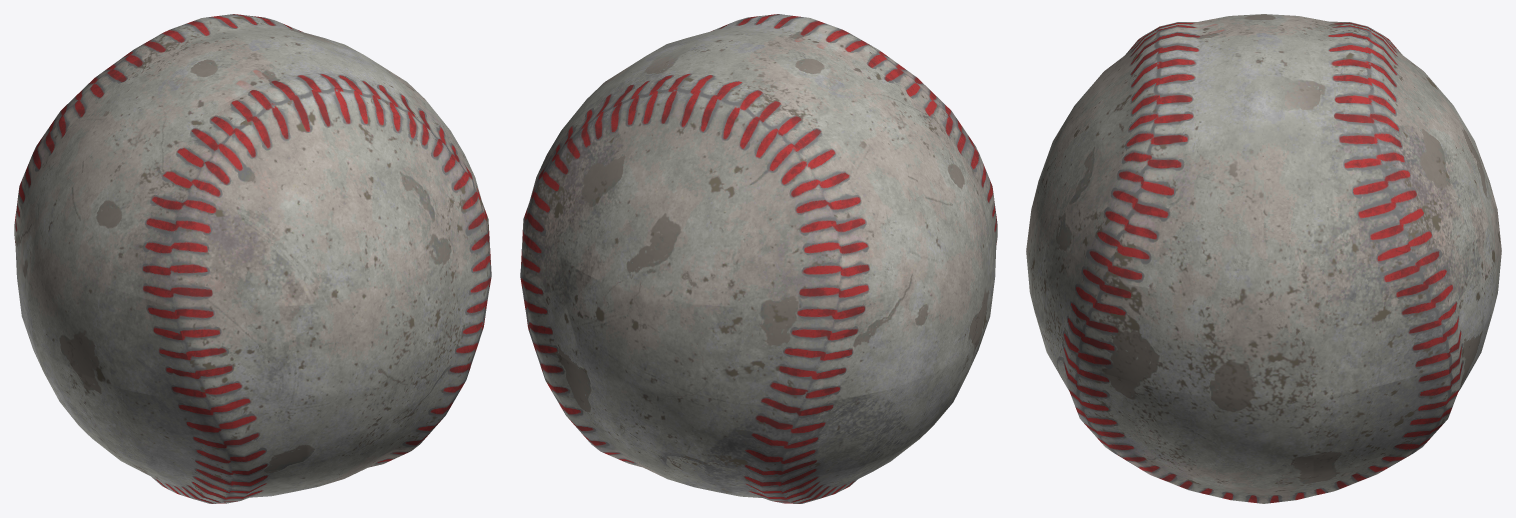
File: old tennis ball break.fbx
3 renders of one model, left to right at view 1: azimuth 30°, elevation 25°; view 2: azimuth 150°, elevation 25°; view 3: azimuth 270°, elevation 25°, orthographic.
Parts seen in each view (by area): view 1: old tennis ball.002, old tennis ball.012, old tennis ball.006, old tennis ball.011, old tennis ball.021, old tennis ball.001, old tennis ball.003, old tennis ball.020, old tennis ball.013, old tennis ball.005, old tennis ball.010, old tennis ball.019 (+8 smaller); view 2: old tennis ball.005, old tennis ball.014, old tennis ball.015, old tennis ball.006, old tennis ball.023, old tennis ball.004, old tennis ball.003, old tennis ball.024, old tennis ball.013, old tennis ball.016, old tennis ball.002, old tennis ball.025 (+7 smaller); view 3: old tennis ball.005, old tennis ball.002, old tennis ball.006, old tennis ball.016, old tennis ball.007, old tennis ball.010, old tennis ball.008, old tennis ball.017, old tennis ball.009, old tennis ball.025, old tennis ball.018, old tennis ball.019 (+5 smaller).
Boxes of the visible parts, left/top/right/bottom form: old tennis ball.002: left=147, top=73, right=452, bottom=307; old tennis ball.012: left=91, top=282, right=294, bottom=408; old tennis ball.006: left=88, top=29, right=422, bottom=173; old tennis ball.011: left=247, top=258, right=450, bottom=402; old tennis ball.021: left=97, top=379, right=310, bottom=483; old tennis ball.001: left=96, top=175, right=246, bottom=308; old tennis ball.003: left=34, top=129, right=146, bottom=281; old tennis ball.020: left=295, top=371, right=424, bottom=473; old tennis ball.013: left=27, top=241, right=97, bottom=378; old tennis ball.005: left=54, top=14, right=332, bottom=128; old tennis ball.010: left=425, top=225, right=491, bottom=370; old tennis ball.019: left=366, top=342, right=478, bottom=460; old tennis ball.005: left=559, top=66, right=873, bottom=307; old tennis ball.014: left=717, top=277, right=934, bottom=408; old tennis ball.015: left=560, top=259, right=763, bottom=402; old tennis ball.006: left=595, top=26, right=929, bottom=165; old tennis ball.023: left=701, top=374, right=929, bottom=483; old tennis ball.004: left=764, top=166, right=927, bottom=308; old tennis ball.003: left=873, top=127, right=982, bottom=277; old tennis ball.024: left=587, top=371, right=716, bottom=473; old tennis ball.013: left=928, top=234, right=987, bottom=373; old tennis ball.016: left=520, top=223, right=586, bottom=370; old tennis ball.002: left=692, top=14, right=958, bottom=126; old tennis ball.025: left=532, top=342, right=645, bottom=460; old tennis ball.005: left=1315, top=19, right=1494, bottom=251; old tennis ball.002: left=1034, top=22, right=1198, bottom=251; old tennis ball.006: left=1197, top=14, right=1315, bottom=171; old tennis ball.016: left=1314, top=252, right=1484, bottom=396; old tennis ball.007: left=1196, top=165, right=1315, bottom=300; old tennis ball.010: left=1043, top=252, right=1196, bottom=393; old tennis ball.008: left=1315, top=169, right=1461, bottom=297; old tennis ball.017: left=1195, top=296, right=1314, bottom=399; old tennis ball.009: left=1067, top=172, right=1197, bottom=295; old tennis ball.025: left=1313, top=332, right=1482, bottom=473; old tennis ball.018: left=1193, top=394, right=1314, bottom=476; old tennis ball.019: left=1045, top=332, right=1194, bottom=470.
Bounding box in the file's own units: 112 × 111 × 110.
